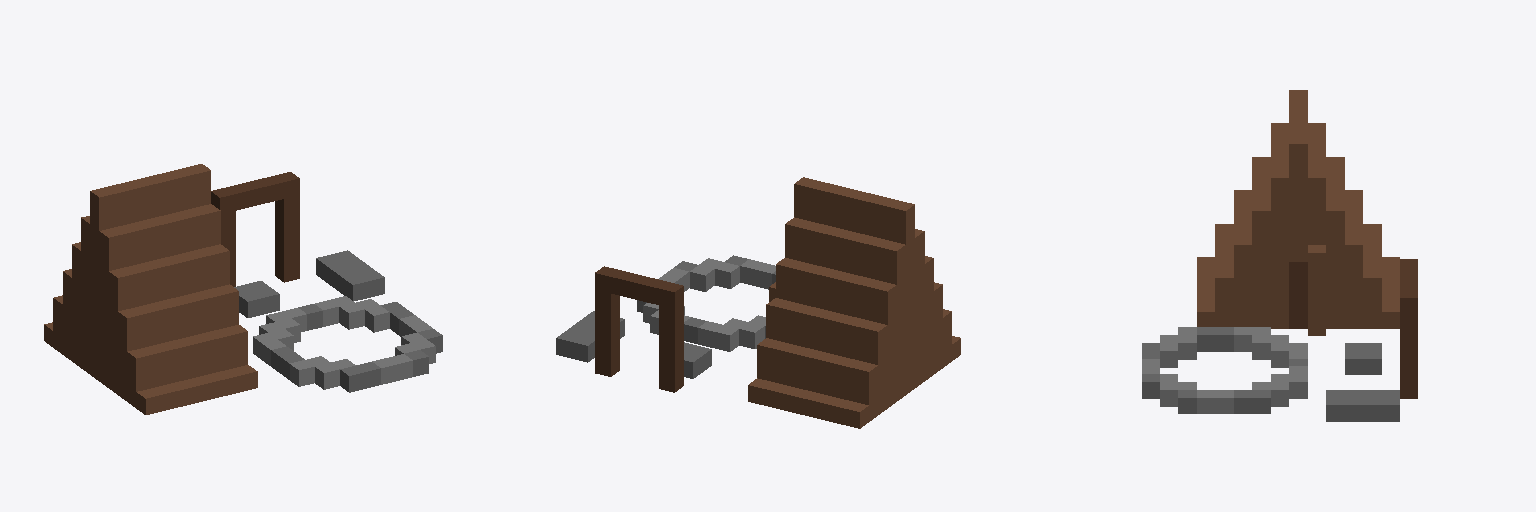
3 renders of one model, left to right at view 1: azimuth 30°, elevation 25°; view 2: azimuth 150°, elevation 25°; view 3: azimuth 270°, elevation 25°, orthographic.
Visible parts, largest first — view 1: object 1; view 2: object 1; view 3: object 1.
Part boxes in pixels (bbox=[...]): object 1: bbox=[44, 164, 442, 414]; object 1: bbox=[556, 177, 960, 428]; object 1: bbox=[1142, 90, 1417, 421].
Bounding box in the file's own units: 1.9 × 1.1 × 1.5.
1 materials, 1 textured.